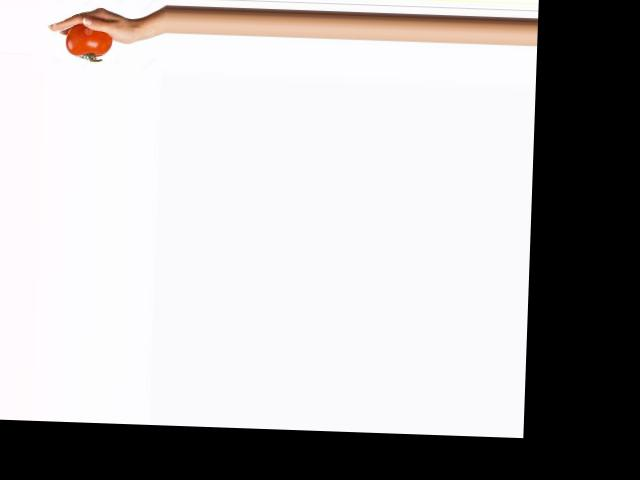tomato: (65, 23, 112, 56)
